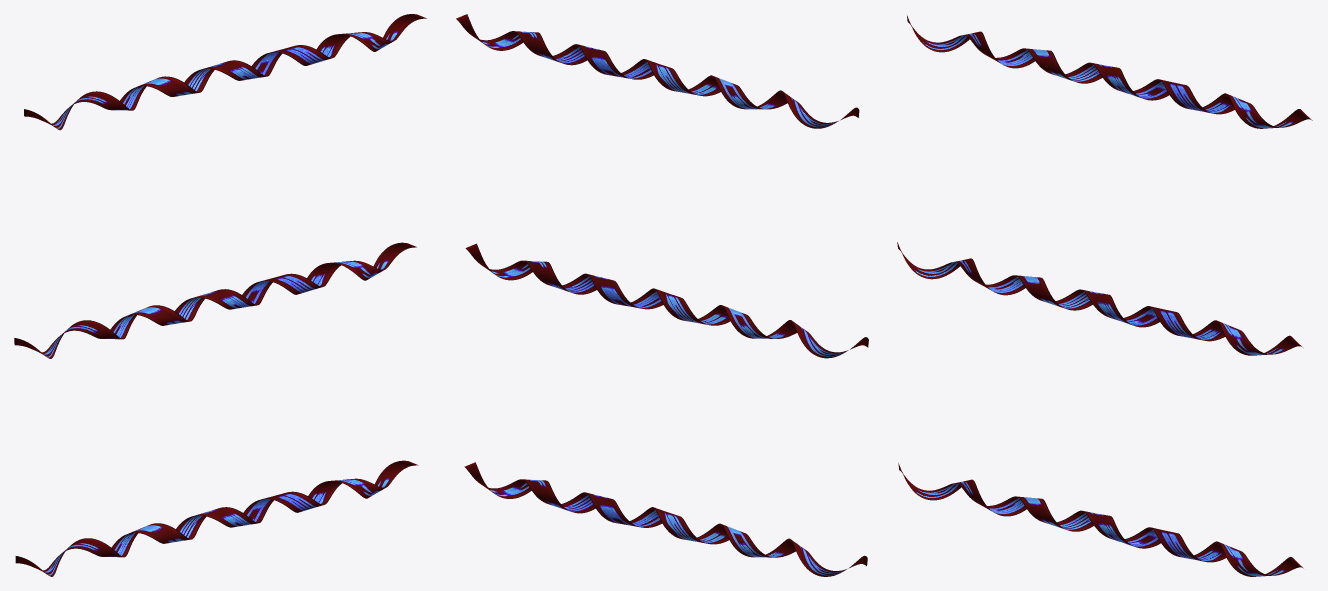
File: SkillObj_Cyno_Claw_Model2.glb
The picture shows the model from 3 angles, left to right: view 1: azimuth 30°, elevation 25°; view 2: azimuth 150°, elevation 25°; view 3: azimuth 330°, elevation 25°; orthographic projection.
Visible parts, largest first — view 1: Bandage_Rune, Bandage_Back, Bandage_Front; view 2: Bandage_Back, Bandage_Rune, Bandage_Front; view 3: Bandage_Rune, Bandage_Back, Bandage_Front.
Boxes of the visible parts, x1,y1,x2,y2 form: Bandage_Rune: (24,14,426,130); Bandage_Back: (15,460,418,576); Bandage_Front: (14,242,416,358); Bandage_Back: (464,462,867,576); Bandage_Rune: (456,14,859,128); Bandage_Front: (465,243,868,358); Bandage_Rune: (907,15,1312,128); Bandage_Back: (898,463,1303,576); Bandage_Front: (897,242,1301,355).
Size of the model in its own units: 0.8777 by 0.9611 by 0.0558.
1 material, 1 textured.
